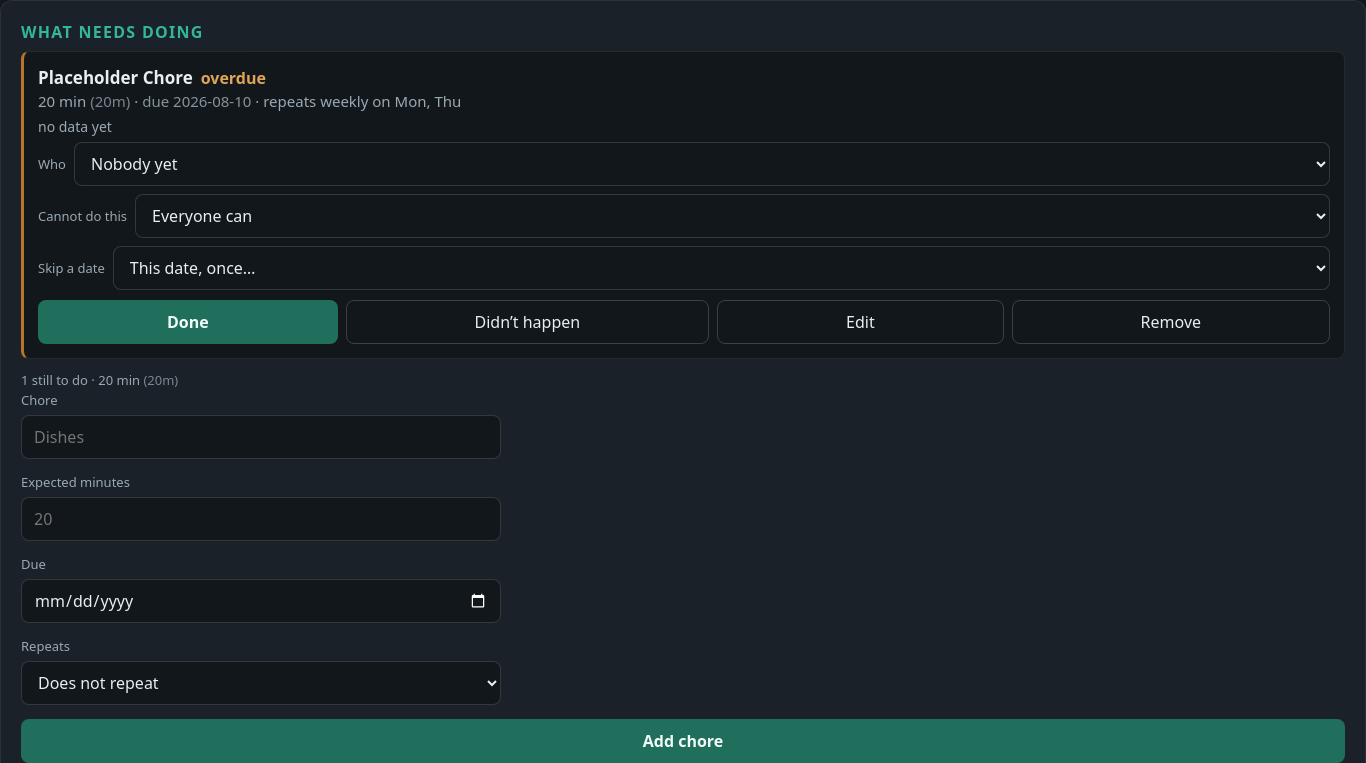
it: #54 — the repeat is edited where the chore is edited › seeds the editor with the schedule the row actually has
This screenshot has width=1366, height=763.
Click the button with aria-label "edit placeholder chore" at (860, 322), box [717,300,1004,344]
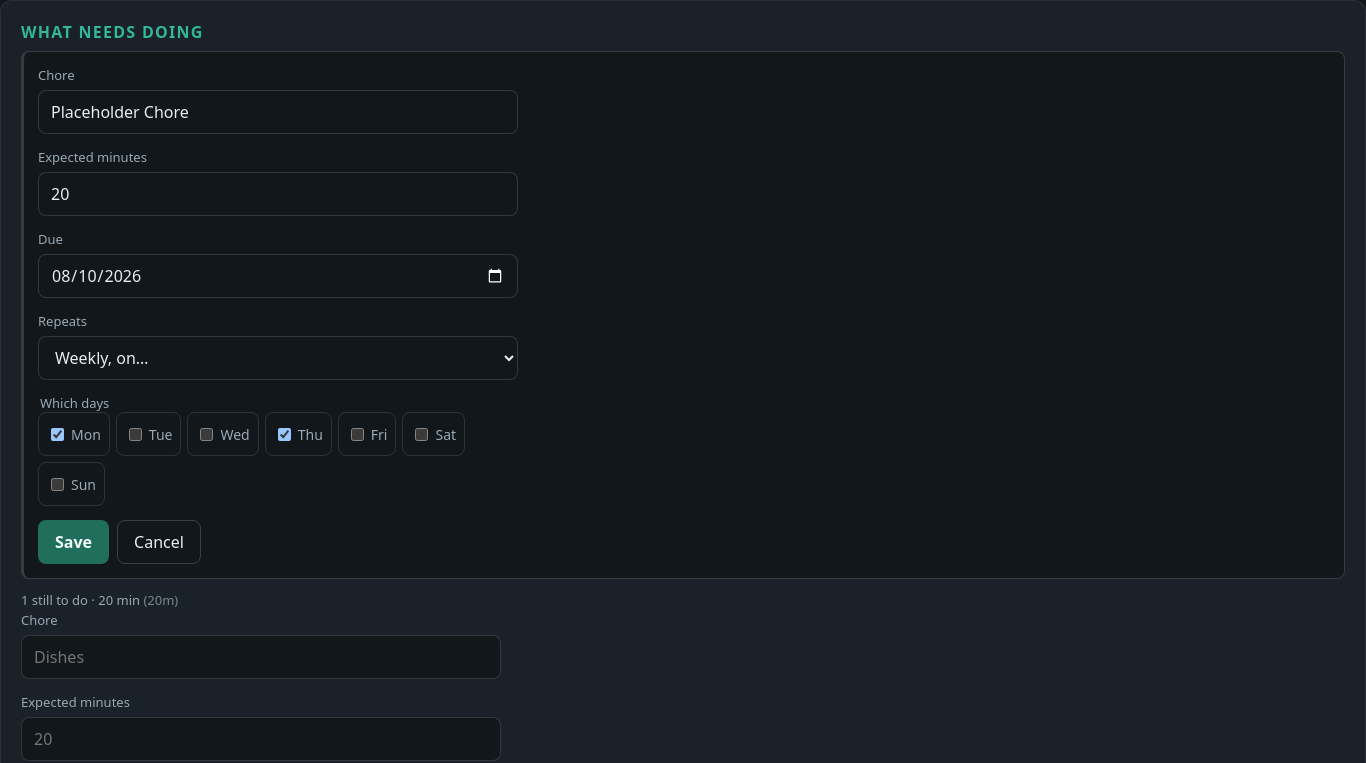
Now the dropdown named "how often placeholder chore repeats" shows "Weekly, on…", box [38,336,518,380]
Now the checkbox named "repeat placeholder chore on mon" is checked, box [51,428,64,440]
Now the checkbox named "repeat placeholder chore on thu" is checked, box [278,428,291,440]
